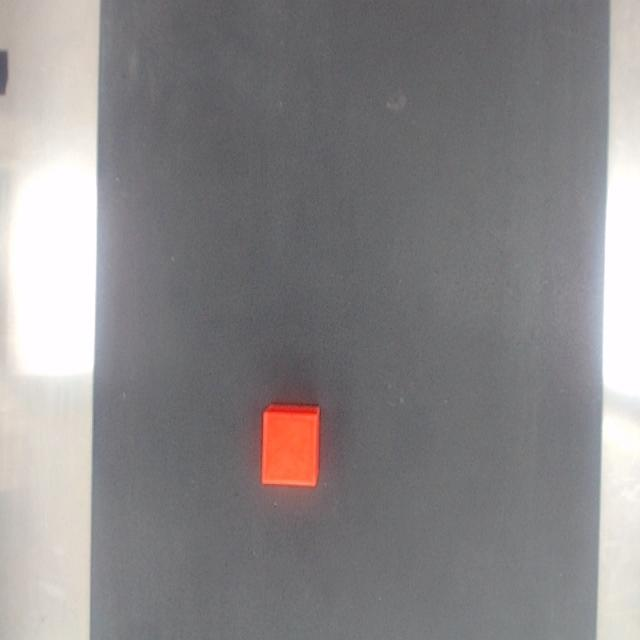Rojo: (260, 404, 319, 487)
